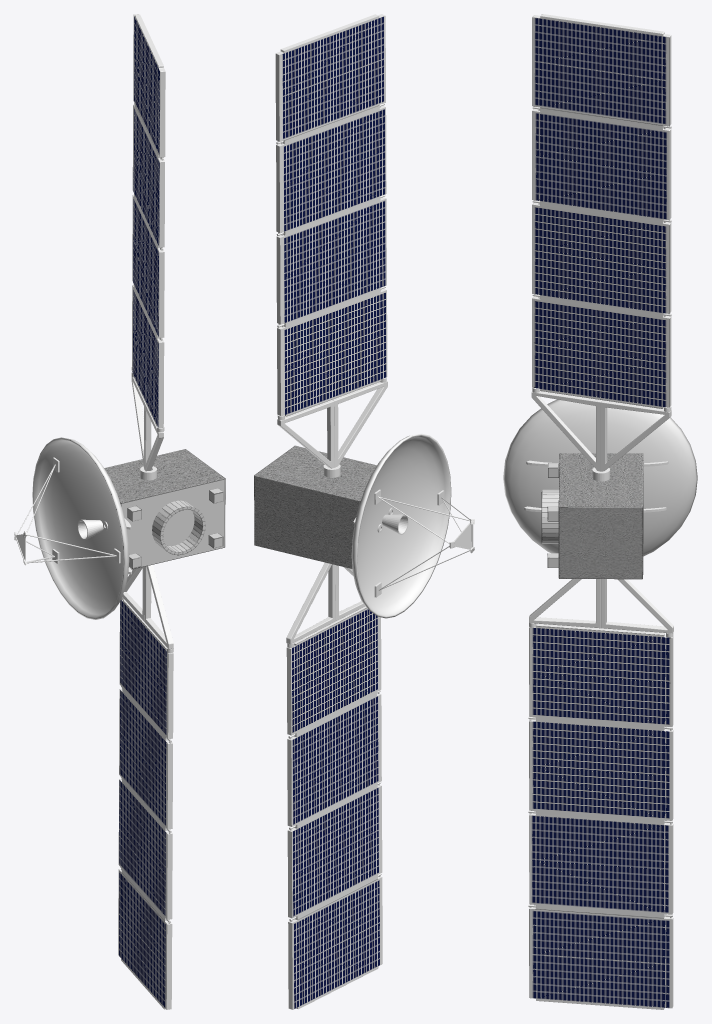
Rendered from satellite.gltf.glb.
3 views of the same model, side by side, from view 1: azimuth 30°, elevation 25°; view 2: azimuth 150°, elevation 25°; view 3: azimuth 270°, elevation 25° (orthographic). The views are drawn at different scales.
Visible parts, largest first — view 1: Cylinder.022, Cylinder.000, Cylinder.016, Cube.010; view 2: Cylinder.000, Cylinder.022, Cylinder.016, Cube.010; view 3: Cylinder.022, Cylinder.000, Cylinder.016, Cube.010.
Part boxes in pixels (<box>): Cylinder.022: <box>118,564,173,1009</box>; Cylinder.000: <box>131,14,165,480</box>; Cylinder.016: <box>14,437,131,619</box>; Cube.010: <box>104,449,225,569</box>; Cylinder.000: <box>275,14,387,477</box>; Cylinder.022: <box>286,562,382,1009</box>; Cylinder.016: <box>351,433,474,618</box>; Cube.010: <box>254,445,376,568</box>; Cylinder.022: <box>528,579,673,1009</box>; Cylinder.000: <box>531,14,671,481</box>; Cylinder.016: <box>503,399,697,556</box>; Cube.010: <box>541,453,643,579</box>.
Size of the model in its own units: 5.73 by 27.13 by 4.87.
3 materials, 2 textured.
